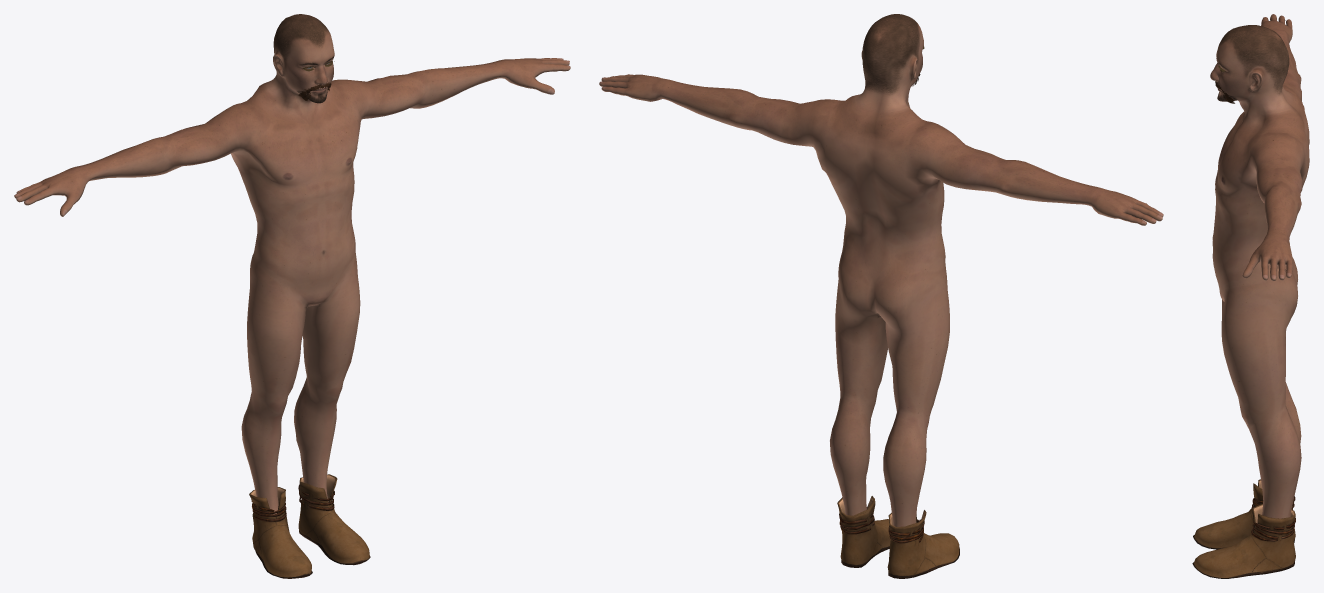
Rendered from ottomansoldier6.obj.
3 renders of one model, left to right at view 1: azimuth 30°, elevation 25°; view 2: azimuth 150°, elevation 25°; view 3: azimuth 270°, elevation 25°, orthographic. The views are drawn at different scales.
Parts seen in each view (by area): view 1: Body, Shoes; view 2: Body, Shoes; view 3: Body, Shoes.
Boxes of the visible parts, x1,y1,x2,y2 form: Body: (14,14,570,514); Shoes: (249,474,370,578); Body: (599,14,1163,526); Shoes: (837,496,959,578); Body: (1210,14,1309,518); Shoes: (1192,479,1295,578).
Bounding box in the file's own units: 194 × 180 × 35.97.
2 materials, 2 textured.
